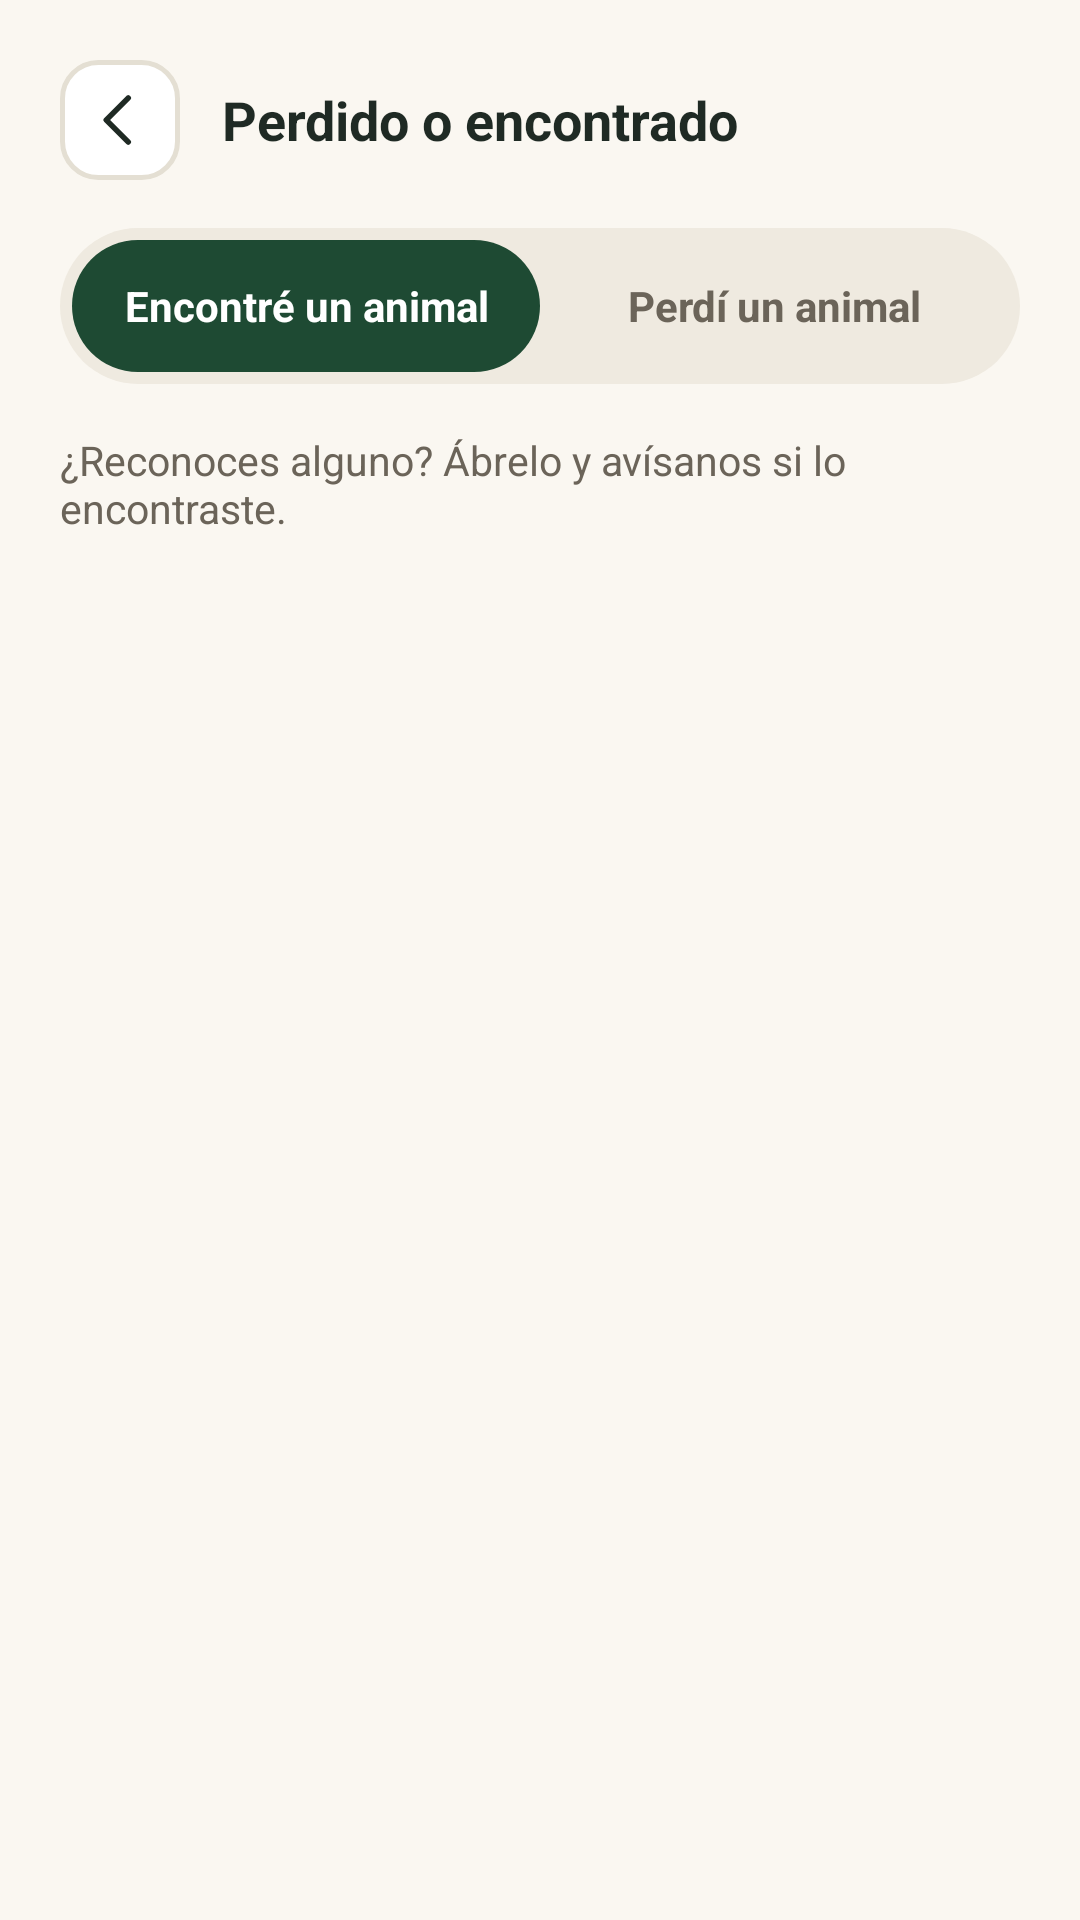

Screen size 1080 × 1920. Icon name, then its box in pixels as box=[x1, y1, x2, y2]:
← Atrás: box=[60, 60, 180, 180]
